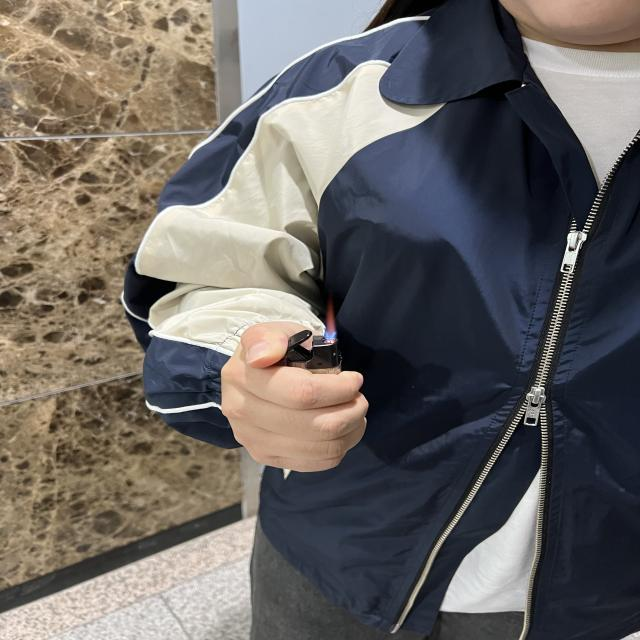fire: (324, 302, 341, 342)
